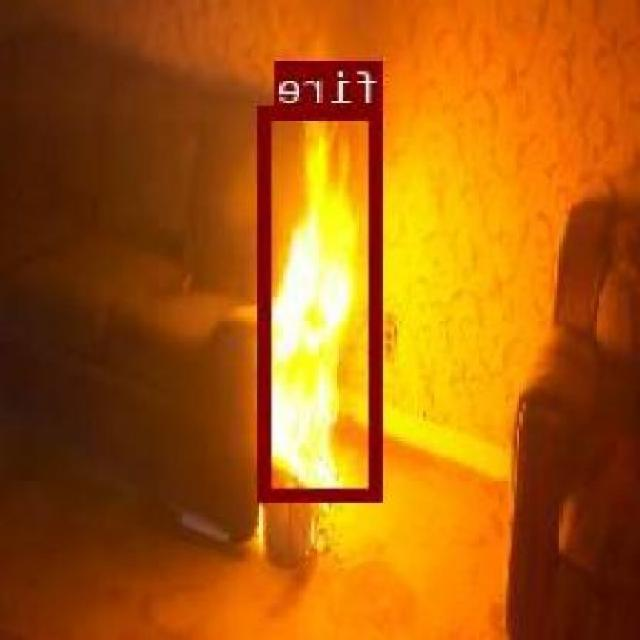Fire: (261, 106, 384, 500)
